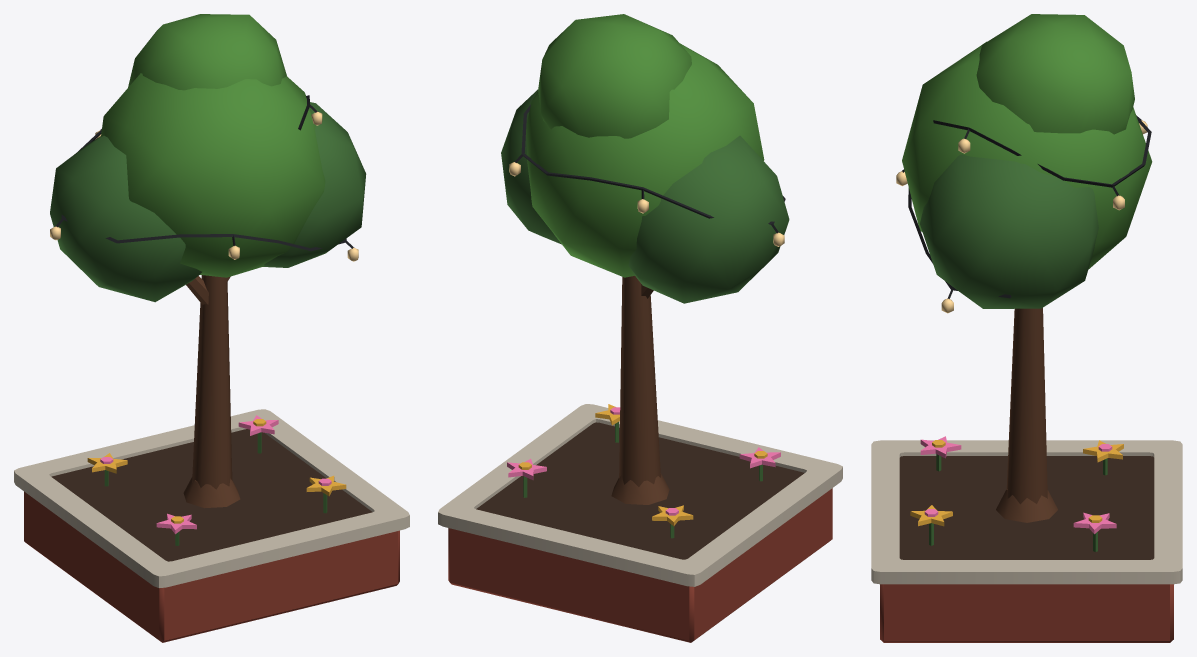
The model's file is Lobby_TreePlanter.fbx.
3 renders of one model, left to right at view 1: azimuth 30°, elevation 25°; view 2: azimuth 150°, elevation 25°; view 3: azimuth 270°, elevation 25°, orthographic. The views are drawn at different scales.
Parts seen in each view (by area): view 1: Canopy1, Planter, Canopy2, Soil, Coping, Trunk, Cable, PetalsGold, PetalsPink, Bulbs; view 2: Canopy1, Planter, Soil, Canopy2, Coping, Trunk, Cable, PetalsPink, PetalsGold; view 3: Canopy1, Soil, Canopy2, Coping, Planter, Trunk, Cable, PetalsPink, PetalsGold, Bulbs.
Part boxes in pixels (bbox=[...]): Canopy1: bbox=[101, 14, 325, 277]; Planter: bbox=[24, 491, 399, 642]; Canopy2: bbox=[50, 102, 366, 302]; Soil: bbox=[51, 429, 372, 561]; Coping: bbox=[14, 409, 409, 587]; Trunk: bbox=[183, 275, 240, 508]; Cable: bbox=[55, 95, 354, 251]; PetalsGold: bbox=[87, 419, 346, 523]; PetalsPink: bbox=[100, 415, 331, 534]; Bulbs: bbox=[50, 111, 358, 261]; Canopy1: bbox=[526, 14, 764, 277]; Planter: bbox=[448, 488, 832, 642]; Soil: bbox=[476, 422, 804, 559]; Canopy2: bbox=[501, 89, 789, 303]; Coping: bbox=[438, 404, 842, 586]; Trunk: bbox=[611, 276, 669, 504]; Cable: bbox=[514, 104, 785, 233]; PetalsPink: bbox=[507, 407, 780, 515]; PetalsGold: bbox=[518, 404, 767, 526]; Canopy1: bbox=[902, 14, 1152, 269]; Soil: bbox=[899, 456, 1154, 559]; Canopy2: bbox=[920, 154, 1098, 308]; Coping: bbox=[871, 440, 1182, 584]; Planter: bbox=[880, 584, 1173, 642]; Trunk: bbox=[996, 308, 1057, 522]; Cable: bbox=[901, 115, 1151, 298]; PetalsPink: bbox=[920, 436, 1116, 534]; PetalsGold: bbox=[910, 440, 1123, 526]; Bulbs: bbox=[896, 120, 1147, 313].
Size of the model in its own units: 710 by 1272 by 636.
